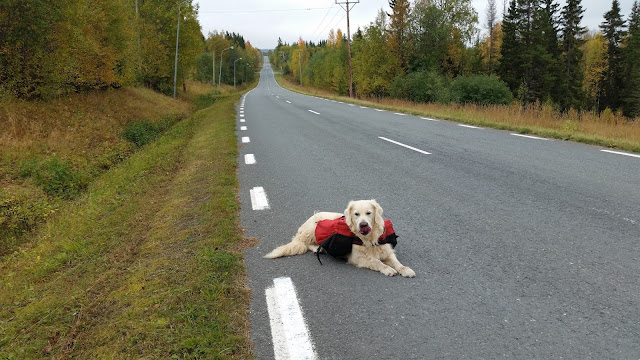kopek: (262, 192, 415, 290)
